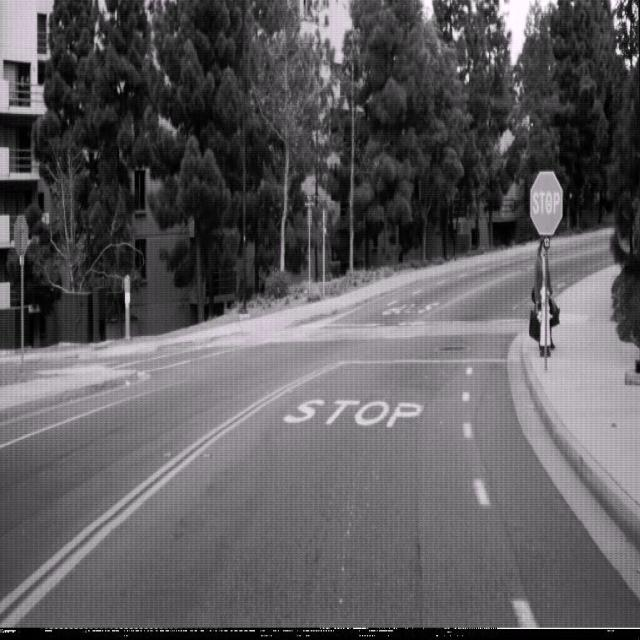stop_sign: (530, 170, 563, 236)
